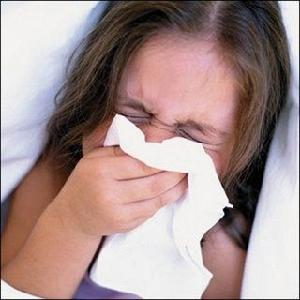face: (80, 30, 233, 226)
